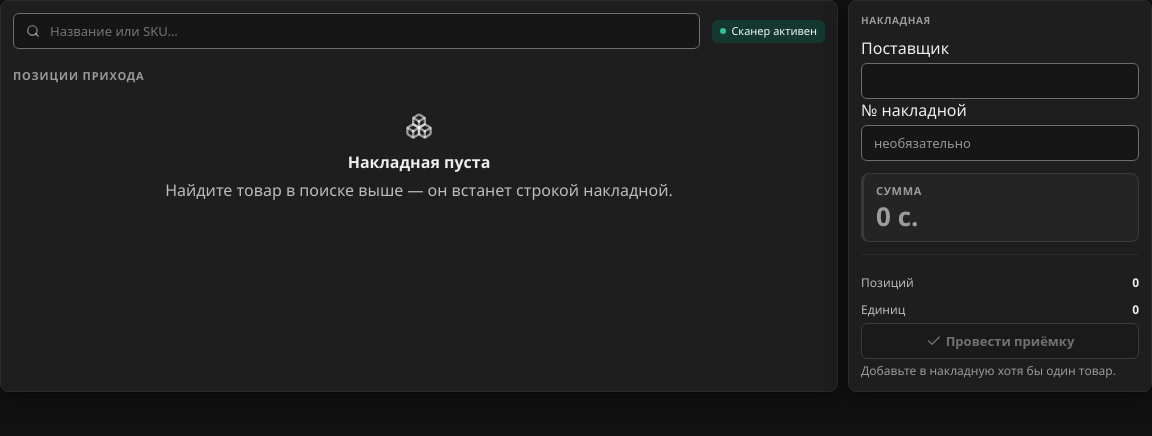
Scenario: ReceivingWorkspace › «Провести» шлёт по purchase-движению на строку и очищает накладную
Type "cola" into the search field named "Добавить товар" at [368, 31], box 48,21 -> 687,41
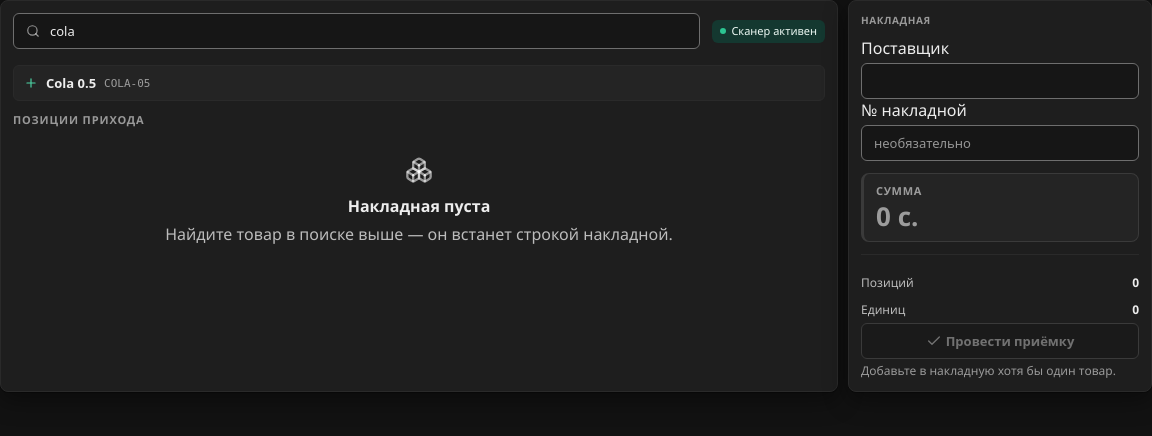
Click the button "Cola 0.5 COLA-05" at [71, 83], box 14,66 -> 824,100
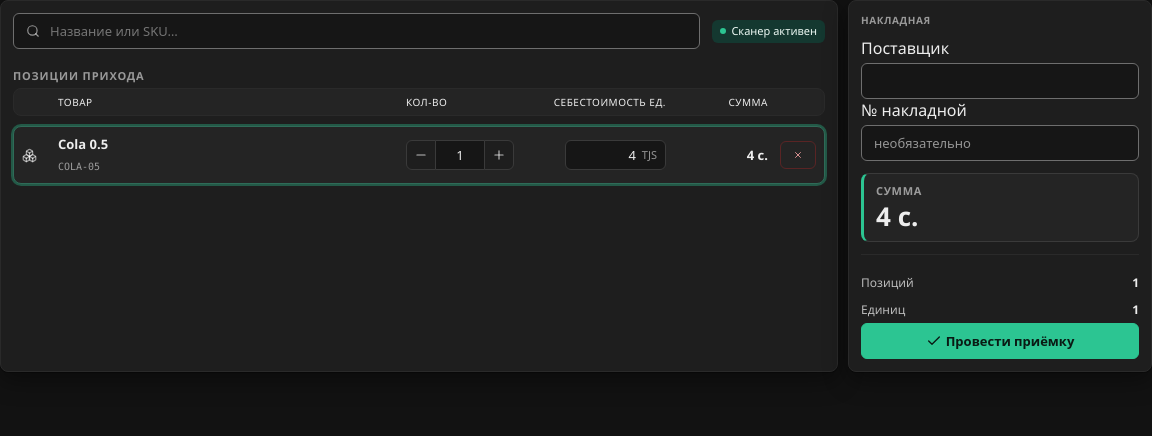
Click the button "Провести приёмку" at [1000, 341], box 861,323 -> 1139,359
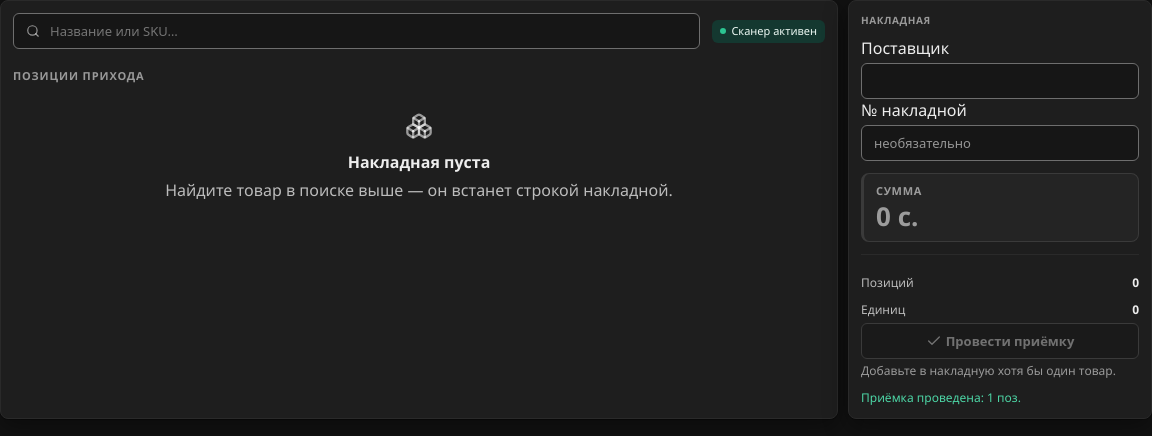
Result: the heading "Накладная пуста" is shown at 348,151 -> 490,173
